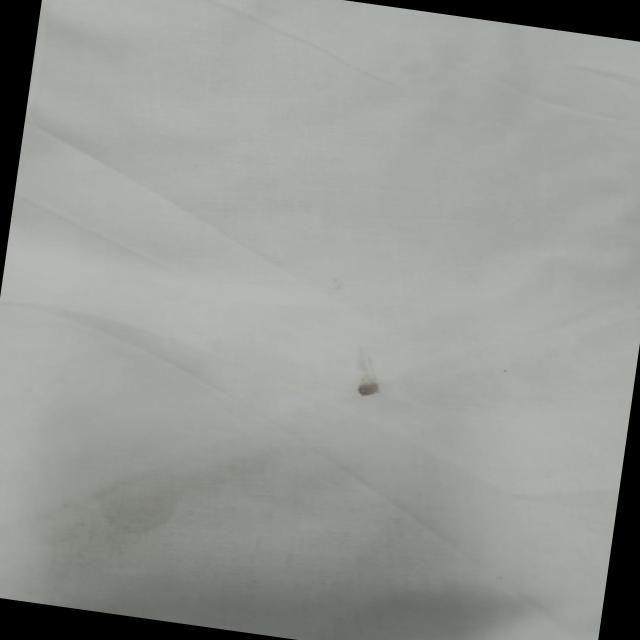stain: (46, 446, 194, 558), (342, 348, 396, 406)
